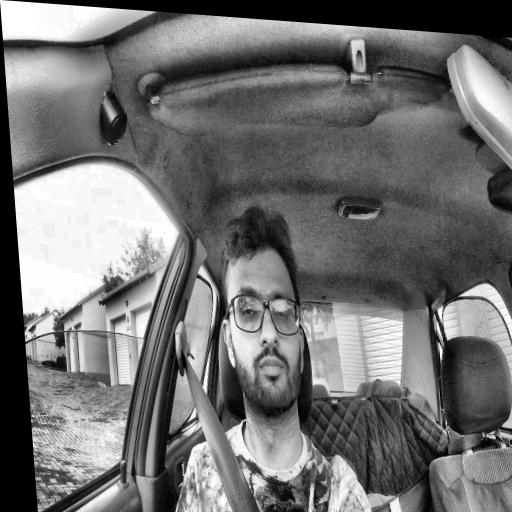drowsy: (212, 202, 310, 420)
